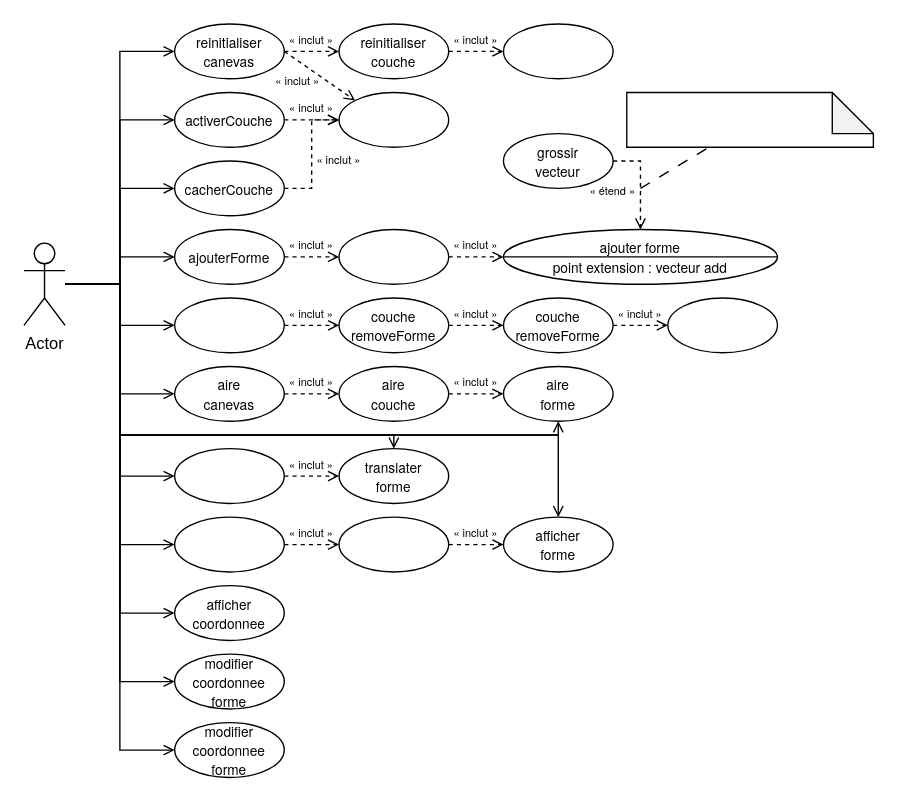
The diagram is 897 pixels wide and 803 high, and some of its shapes have lost their labels. Each missing label, with the box of its shape:
afficher canevas: (173, 516, 284, 572)
afficher couche: (338, 516, 449, 572)
ajuster taille vecteur: (667, 297, 777, 353)
Condition : { si taille > capacite } Point d'extension : vecteur add: (625, 91, 873, 147)
couche addForme: (338, 228, 449, 284)
couche setEtat: (338, 91, 449, 147)
retirerForme: (173, 297, 284, 353)
translater canevas: (173, 447, 284, 503)
vecteur clean: (502, 23, 613, 79)
